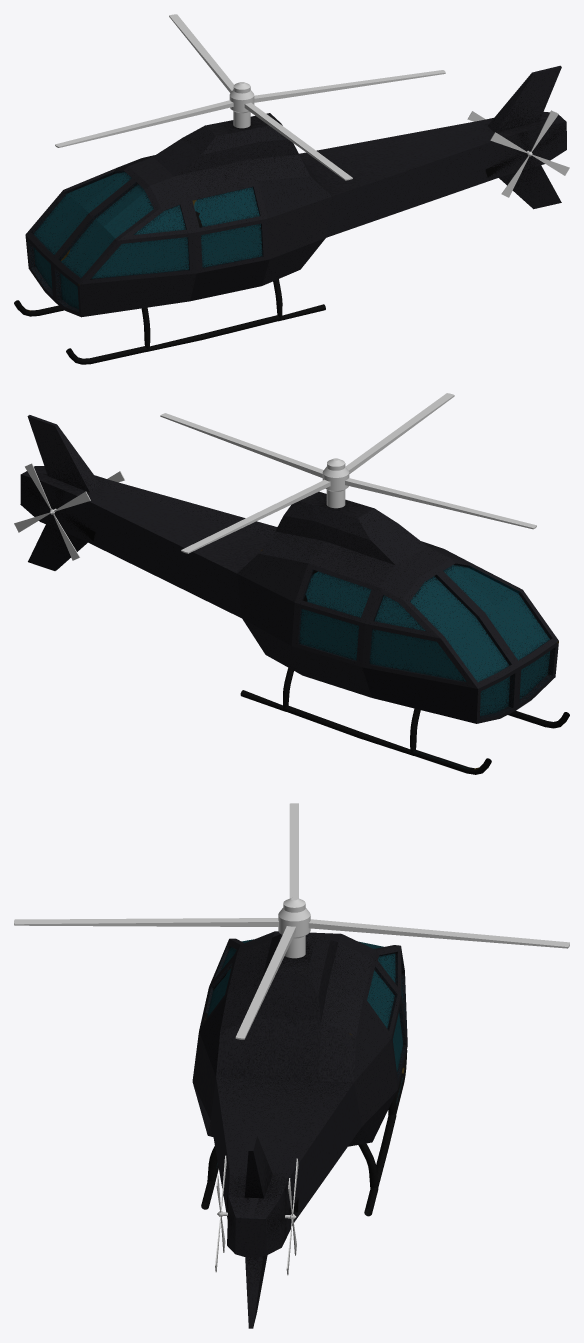
The model's file is anim_000249.obj.
The picture shows the model from 3 angles, top to bottom: view 1: azimuth 30°, elevation 25°; view 2: azimuth 150°, elevation 25°; view 3: azimuth 270°, elevation 25°; orthographic projection. The views are drawn at different scales.
Visible parts, largest first — view 1: Helicopter.007_Cylinder.008, Helicopter.001_Cylinder.001, Helicopter.003_Cylinder.004; view 2: Helicopter.007_Cylinder.008, Helicopter.001_Cylinder.001, Helicopter.004_Cylinder.005; view 3: Helicopter.007_Cylinder.008, Helicopter.001_Cylinder.001.
Boxes of the visible parts, <box> form: Helicopter.007_Cylinder.008: <box>14,65,566,364</box>; Helicopter.001_Cylinder.001: <box>55,14,445,180</box>; Helicopter.003_Cylinder.004: <box>490,110,569,197</box>; Helicopter.007_Cylinder.008: <box>20,415,569,774</box>; Helicopter.001_Cylinder.001: <box>160,393,536,553</box>; Helicopter.004_Cylinder.005: <box>14,463,90,560</box>; Helicopter.007_Cylinder.008: <box>192,931,407,1328</box>; Helicopter.001_Cylinder.001: <box>14,803,569,1039</box>.
Size of the model in its own units: 7.55 by 3.21 by 5.55.
